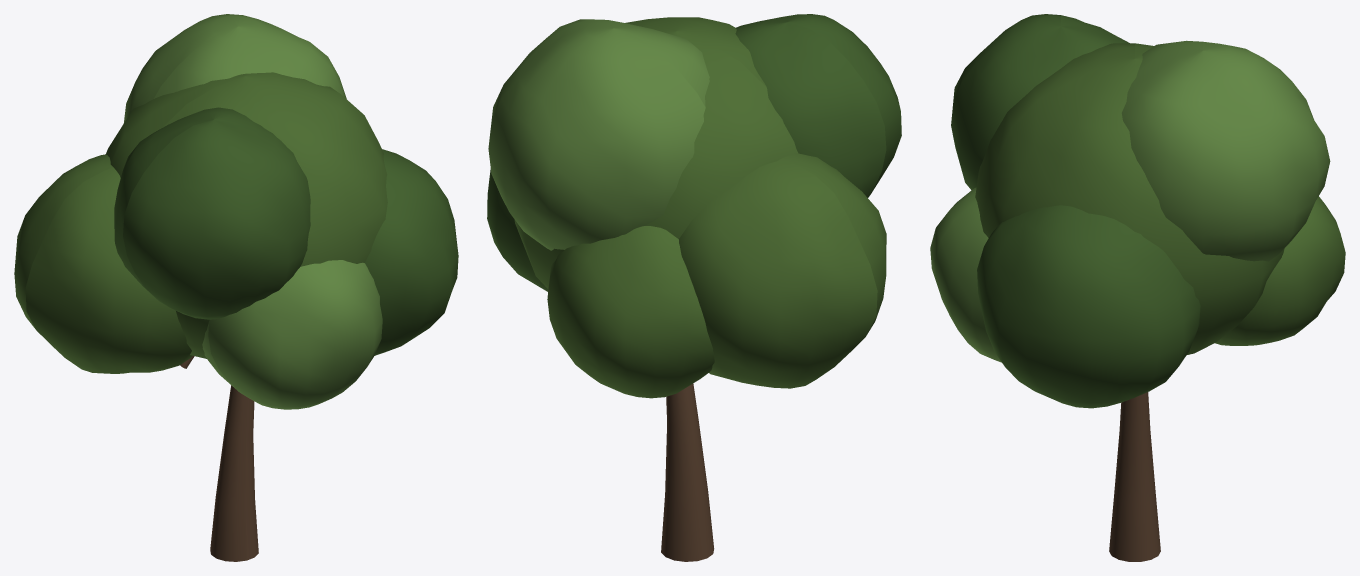
The model's file is tree.glb.
The picture shows the model from 3 angles, left to right: view 1: azimuth 30°, elevation 25°; view 2: azimuth 150°, elevation 25°; view 3: azimuth 270°, elevation 25°; orthographic projection. The views are drawn at different scales.
Visible parts, largest first — view 1: Canopy (×6), Trunk; view 2: Canopy (×6), Trunk; view 3: Canopy (×6), Trunk.
Part boxes in pixels (x1=…): Canopy (×6): x1=14, y1=14, x2=458, y2=409; Trunk: x1=210, y1=385, x2=258, y2=561; Canopy (×6): x1=487, y1=14, x2=901, y2=398; Trunk: x1=661, y1=383, x2=714, y2=561; Canopy (×6): x1=930, y1=14, x2=1345, y2=408; Trunk: x1=1109, y1=392, x2=1160, y2=561.
Size of the model in its own units: 3.76 by 4.64 by 3.37.
